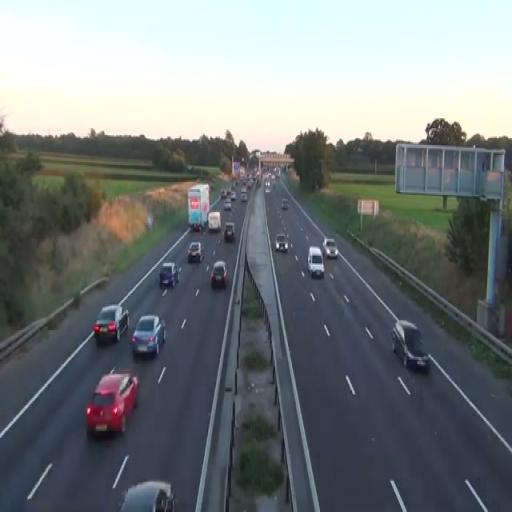Car: (85, 370, 140, 439), (390, 319, 430, 372), (118, 479, 175, 512), (130, 315, 166, 358), (92, 304, 130, 344), (307, 247, 325, 278), (210, 260, 228, 289), (159, 262, 179, 288), (187, 241, 204, 262), (322, 238, 338, 260), (275, 233, 289, 253), (223, 222, 236, 242)
Truck: (188, 183, 210, 231)
